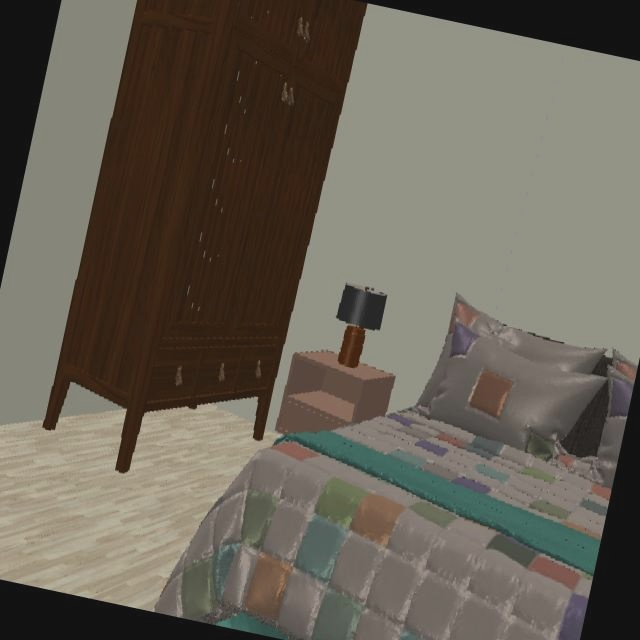bed: (151, 294, 637, 640)
lamp: (334, 284, 388, 369)
nighttable: (274, 352, 396, 436)
wardrobe: (42, 0, 368, 474)
